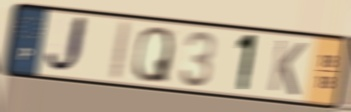1: (232, 32, 259, 96)
3: (179, 29, 217, 88)
I: (106, 17, 134, 84)
J: (42, 14, 90, 78)
K: (266, 37, 309, 99)
Q: (131, 25, 175, 85)
